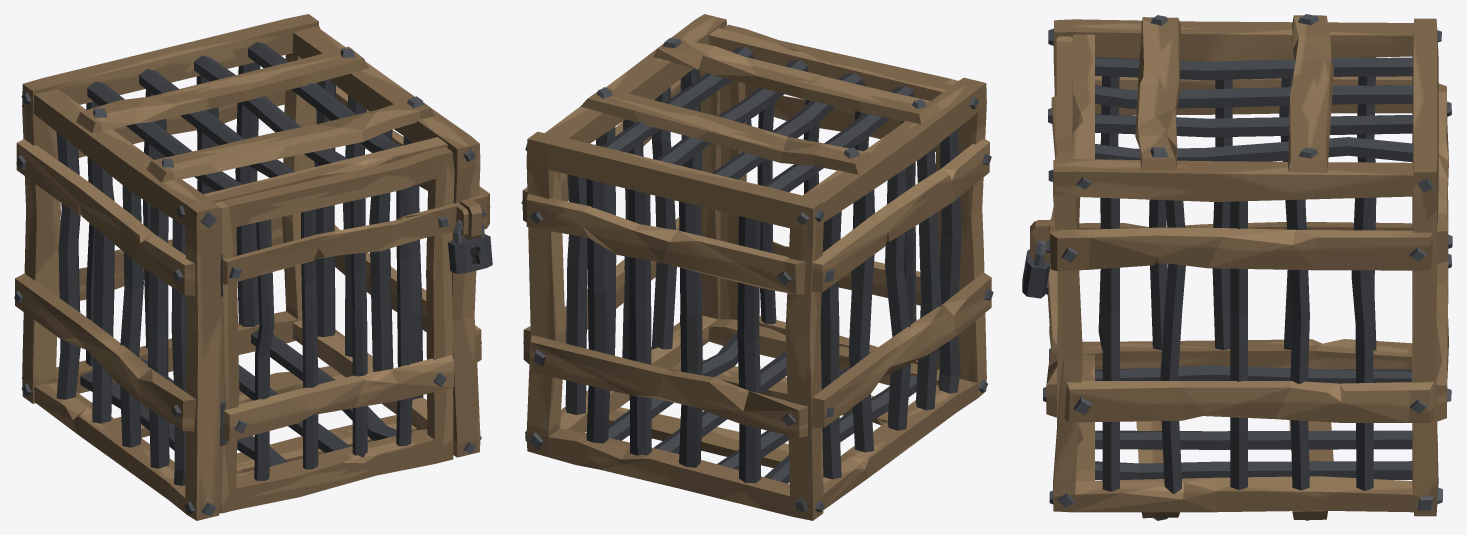
The model's file is SM_Prop_Cage_02.fbx.
3 renders of one model, left to right at view 1: azimuth 30°, elevation 25°; view 2: azimuth 150°, elevation 25°; view 3: azimuth 270°, elevation 25°, orthographic. The views are drawn at different scales.
Parts seen in each view (by area): view 1: SM_Prop_Cage_02, SM_Prop_Cage_02_Door, SM_Prop_Cage_02_Lock; view 2: SM_Prop_Cage_02, SM_Prop_Cage_02_Door; view 3: SM_Prop_Cage_02, SM_Prop_Cage_02_Door, SM_Prop_Cage_02_Lock.
Part boxes in pixels (x1,y1,x2,y2): SM_Prop_Cage_02: [14, 14, 490, 520]; SM_Prop_Cage_02_Door: [215, 146, 468, 513]; SM_Prop_Cage_02_Lock: [448, 220, 492, 273]; SM_Prop_Cage_02: [521, 14, 993, 520]; SM_Prop_Cage_02_Door: [720, 24, 958, 369]; SM_Prop_Cage_02: [1030, 14, 1452, 520]; SM_Prop_Cage_02_Door: [1036, 36, 1072, 424]; SM_Prop_Cage_02_Lock: [1022, 240, 1050, 298].
Size of the model in its own units: 96.29 by 99.03 by 105.
